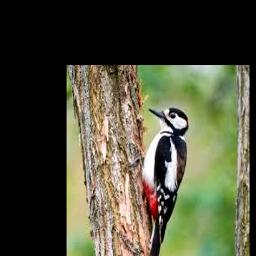Woodpecker: (142, 108, 189, 256)
